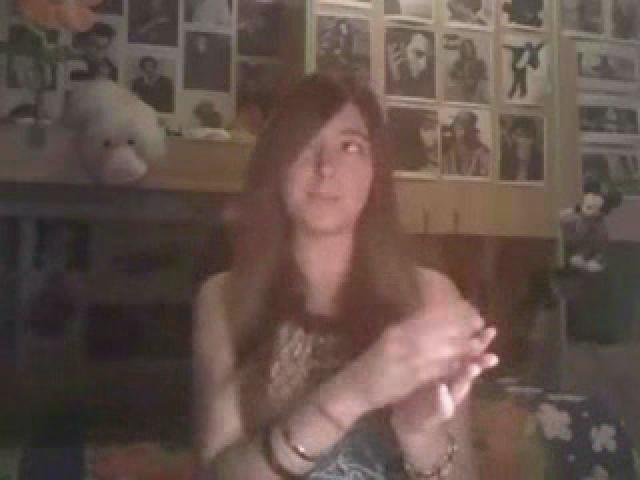F: (195, 77, 468, 480)
